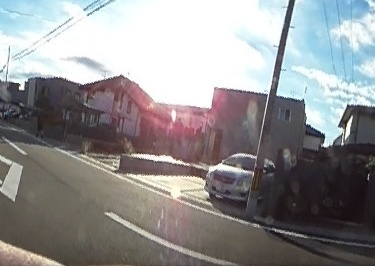person: (34, 109, 46, 138)
